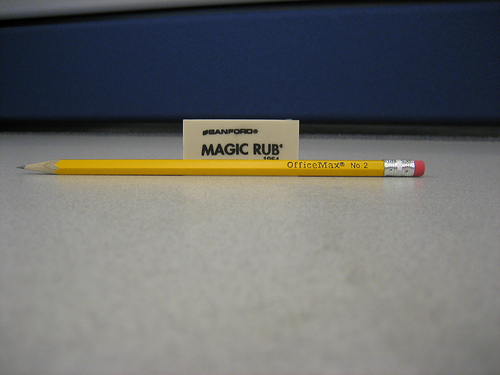pen_tip: (6, 149, 75, 189)
